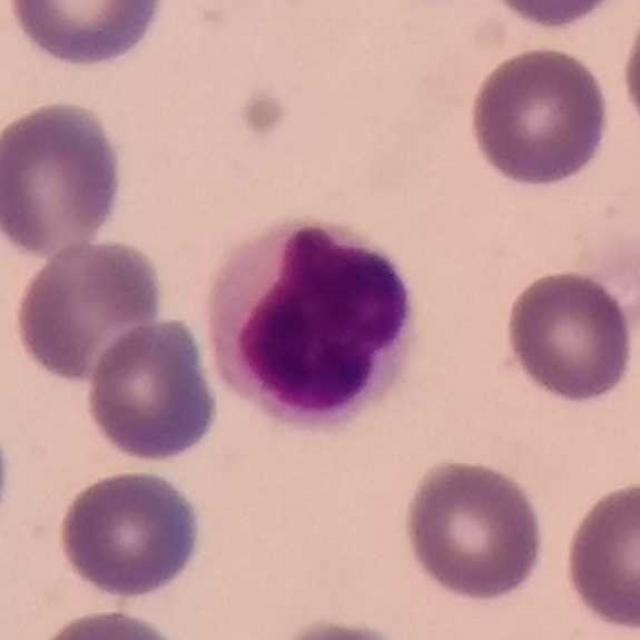Lymphocyte: (200, 213, 431, 436)
Platelets: (235, 84, 295, 149)
RBC: (10, 235, 168, 388), (398, 454, 549, 605), (466, 42, 614, 193), (0, 96, 129, 260), (82, 315, 222, 466), (53, 465, 207, 601), (501, 265, 635, 406), (558, 475, 640, 634), (3, 0, 172, 72), (28, 605, 191, 640), (474, 0, 632, 32), (263, 615, 422, 640), (617, 2, 640, 150)
